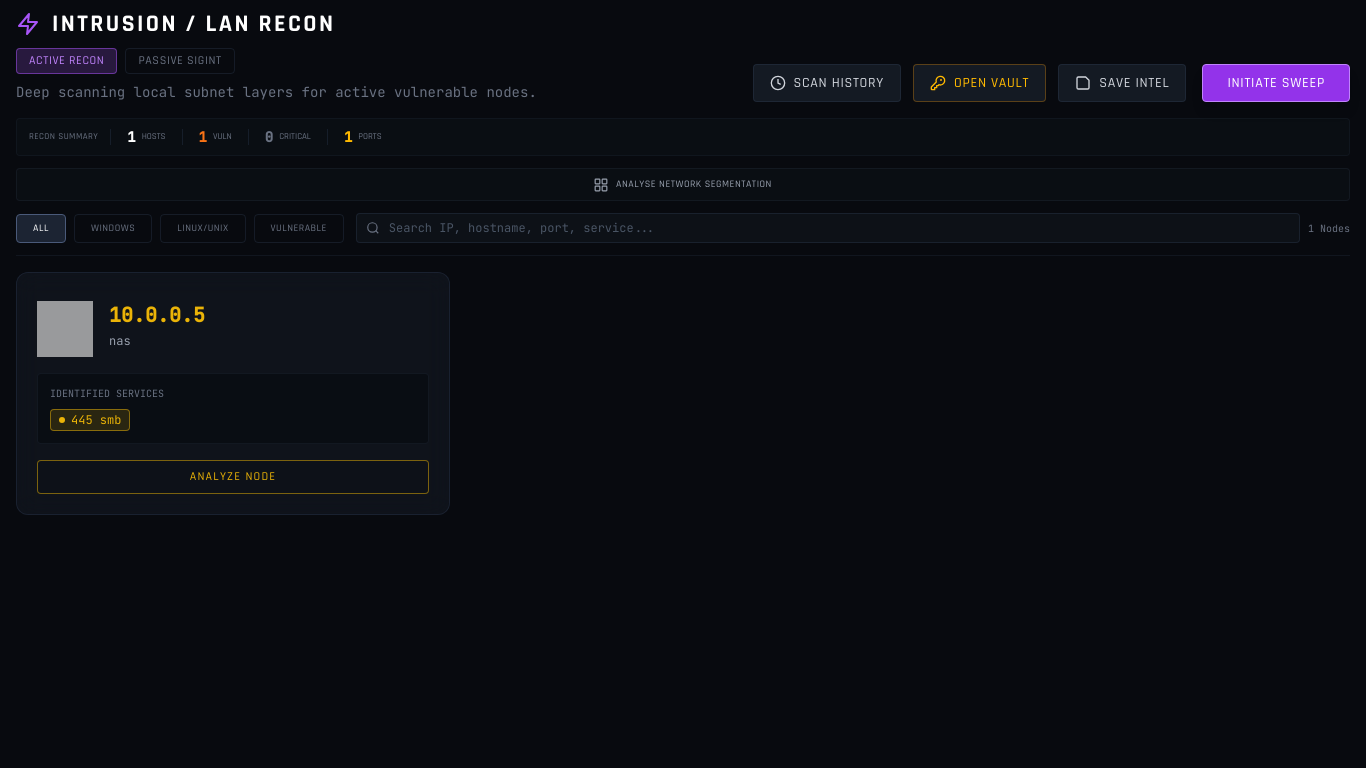
Scenario: the table, once opened › every inferred column is marked, and the basis is stated once
What coordinates should you click on to do the following:
click the button "ANALYSE NETWORK SEGMENTATION"
I would click on:
 (683, 184)
Its box is 16,168 -> 1350,201.
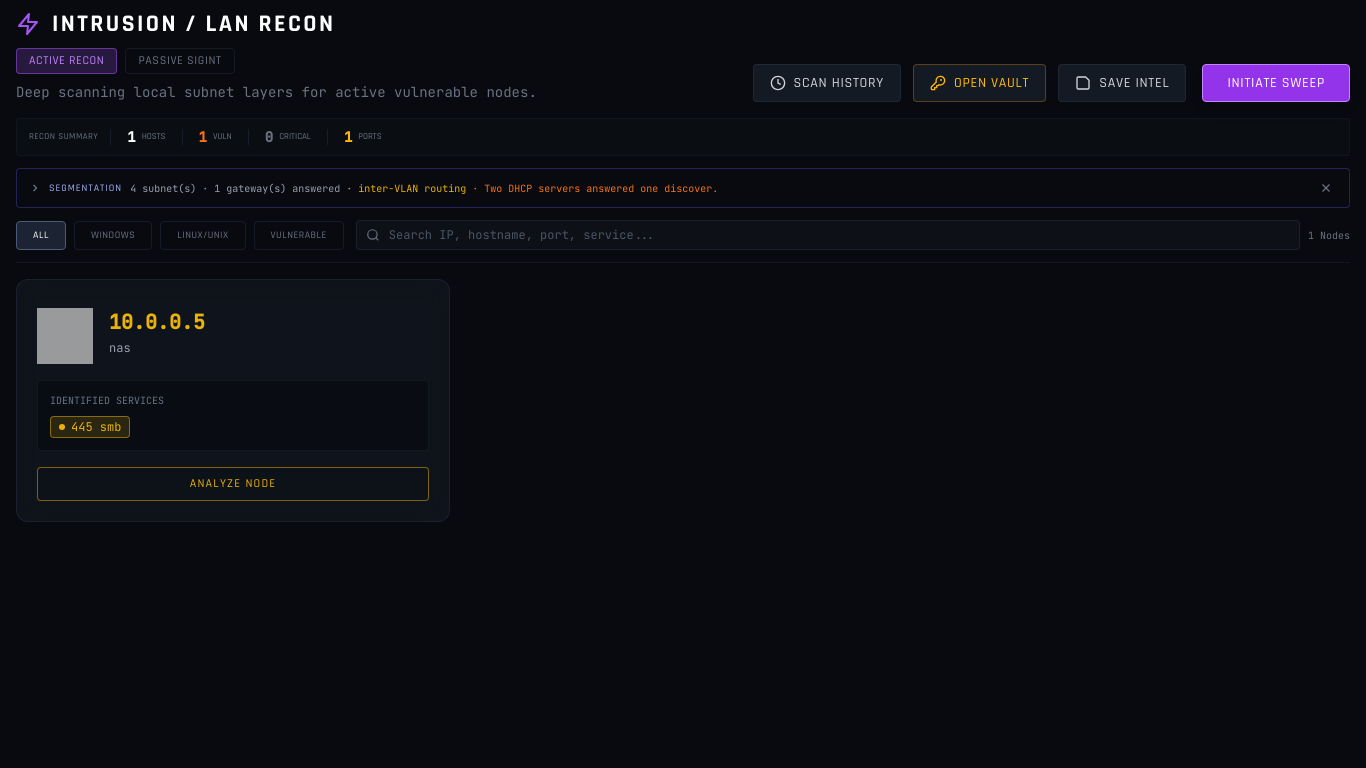
What coordinates should you click on to do the following:
click the button "SEGMENTATION"
I would click on:
 (668, 188)
Its box is 29,180 -> 1307,196.
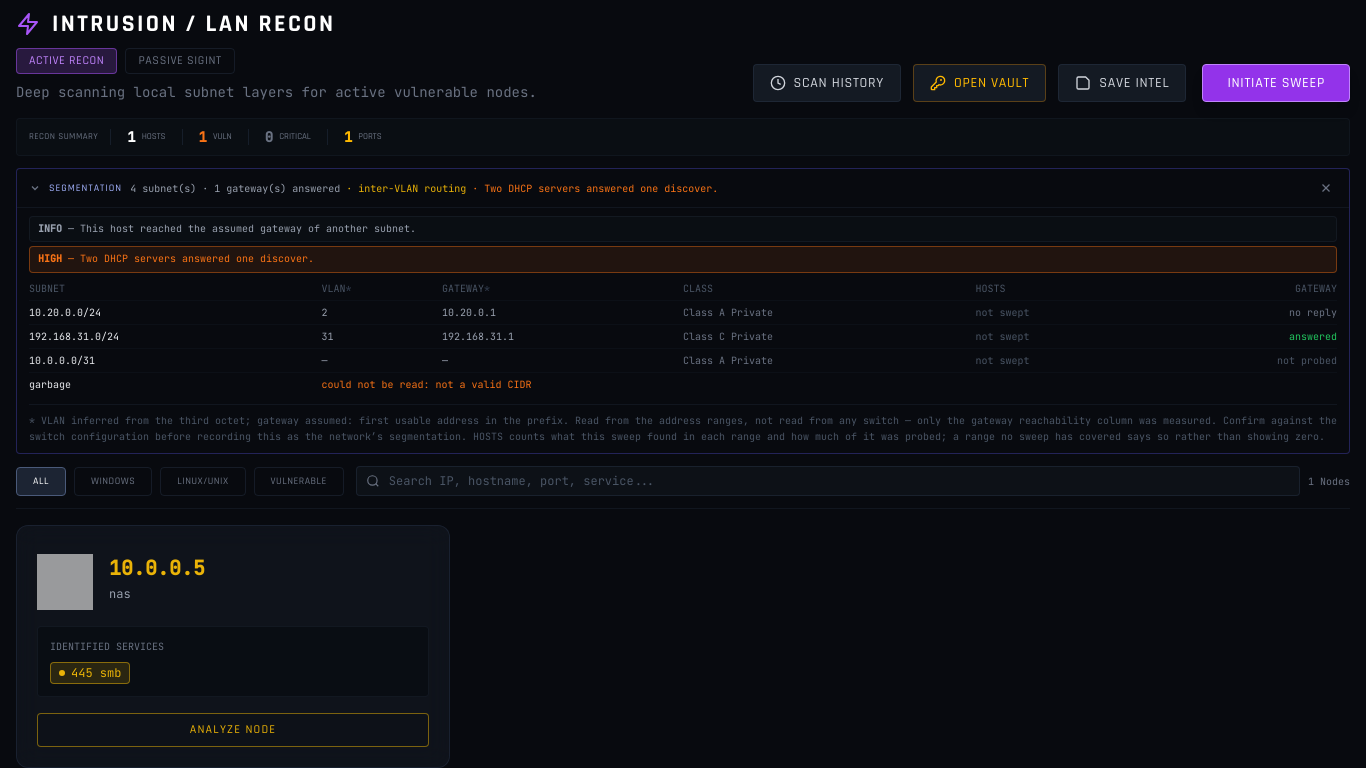
Result: the text "192.168.31.0/24" is shown at 29,324 -> 322,348
Result: the text "not read from any switch" shows "inferred from the third octet" at 29,414 -> 1337,443
Result: the text "not read from any switch" shows "assumed: first usable address in the prefix" at 29,414 -> 1337,443
